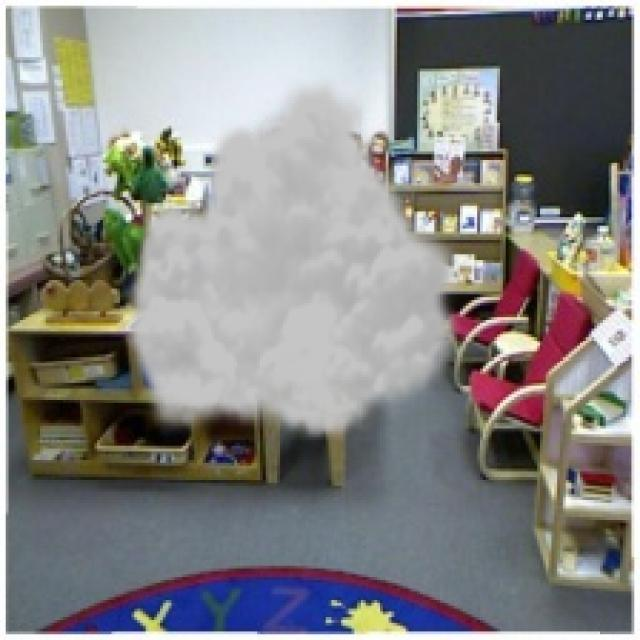smoke: (120, 71, 469, 443)
